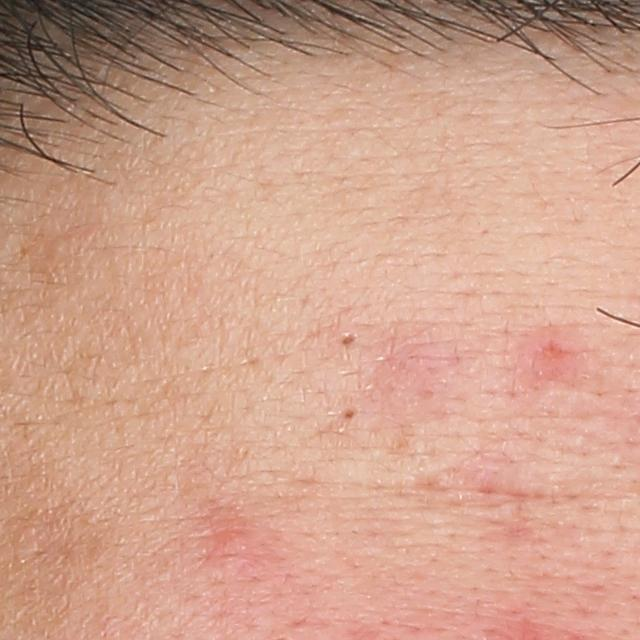comedo: (332, 328, 362, 355), (338, 401, 361, 423)
papule: (526, 334, 565, 383)
